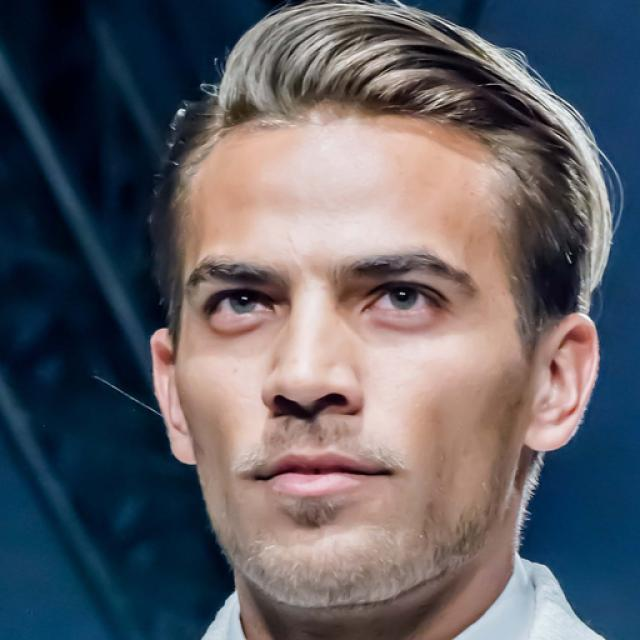neutral: (175, 117, 535, 615)
